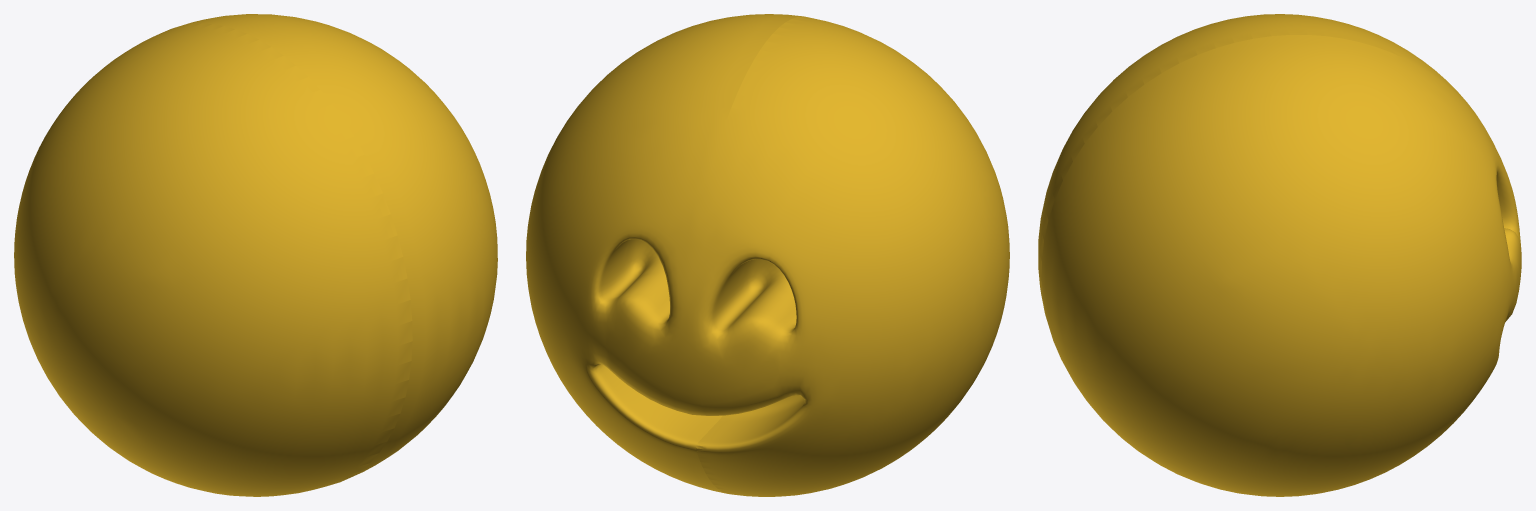
Rendered from smile 3DS.glb.
The picture shows the model from 3 angles, left to right: view 1: azimuth 30°, elevation 25°; view 2: azimuth 150°, elevation 25°; view 3: azimuth 270°, elevation 25°; orthographic projection.
Visible parts, largest first — view 1: Group38964; view 2: Group38964; view 3: Group38964.
Part boxes in pixels (x1,y1,x2,y2): Group38964: (14,14,497,496); Group38964: (526,14,1009,496); Group38964: (1038,14,1521,496).
Size of the model in its own units: 0.5061 by 0.5056 by 0.5061.
